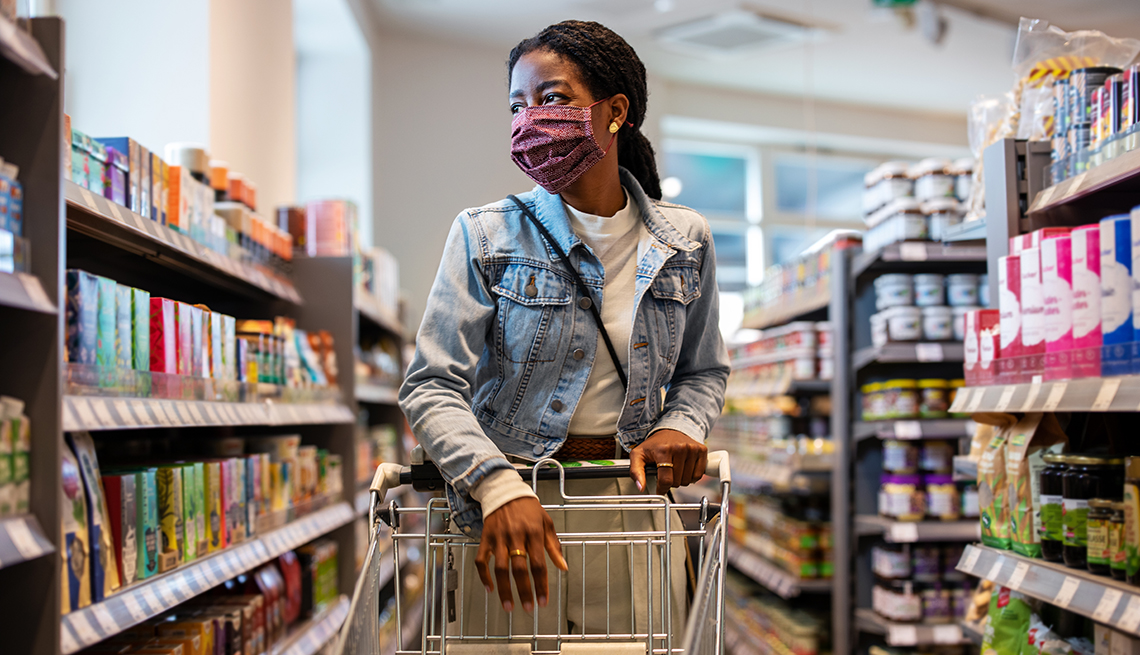with_mask: (507, 65, 586, 176)
